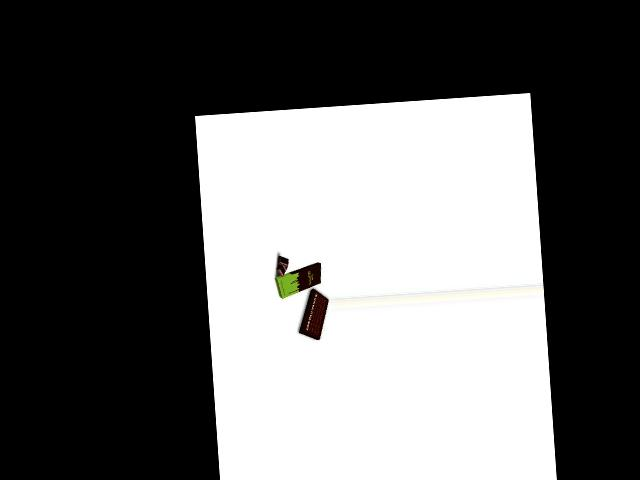chocolate: (273, 265, 323, 296)
